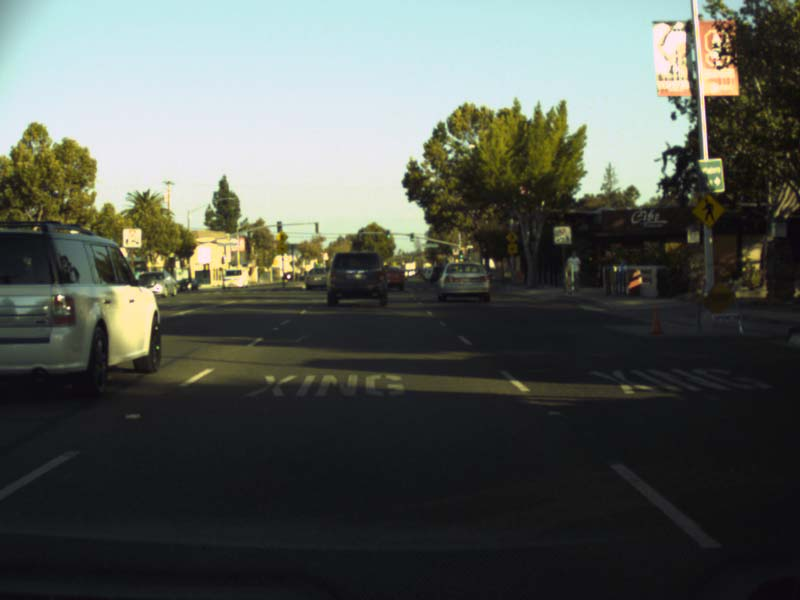Green: (386, 232, 390, 238), (410, 234, 413, 240)
